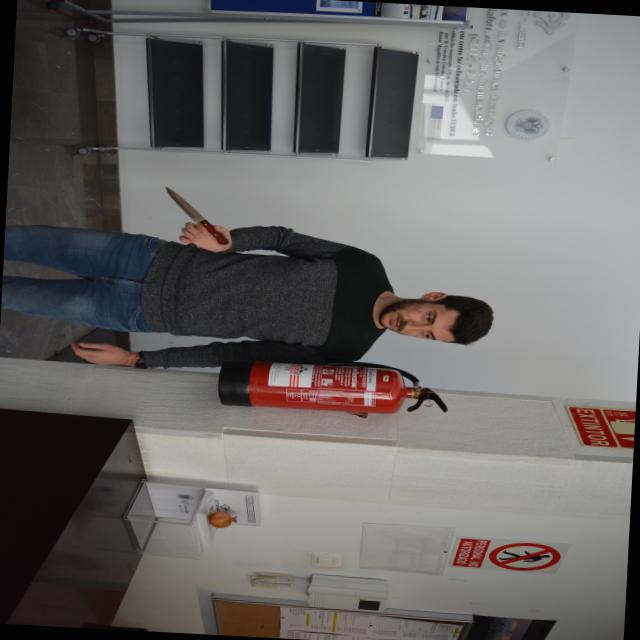knife: (159, 183, 234, 247)
